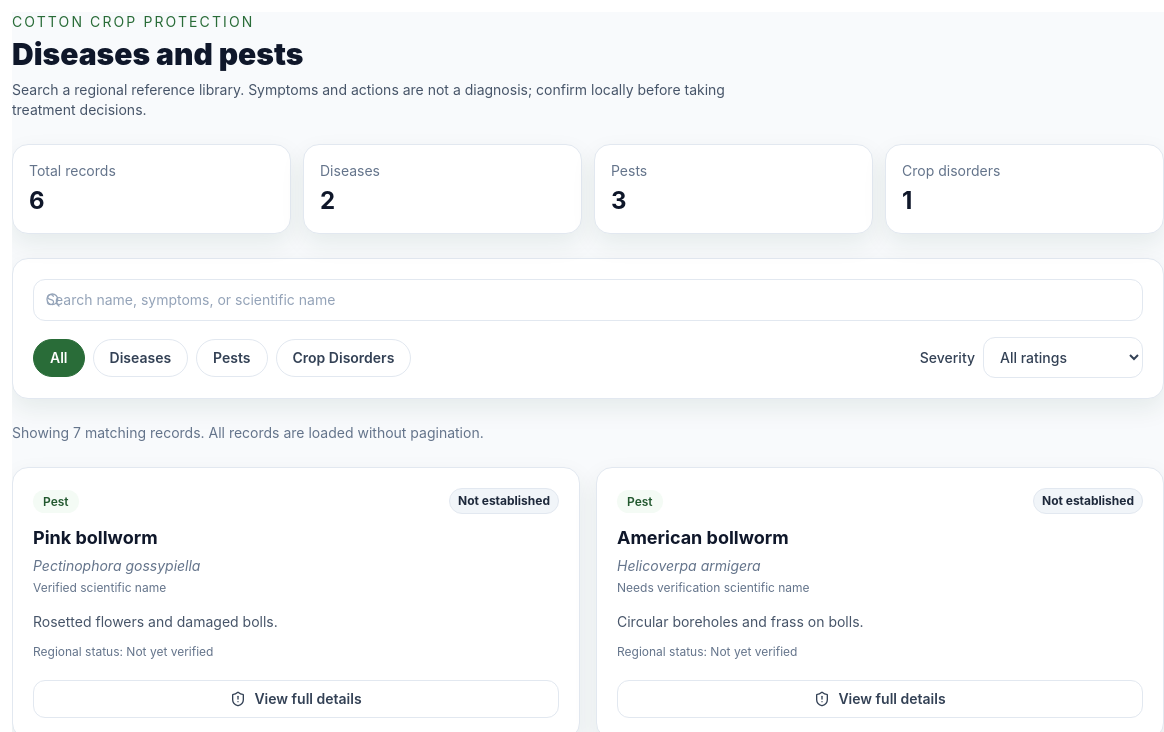
it: CottonIssueGuide › applies each severity label filter without crashing
Step 1. Select "Low" in the dropdown named "Filter by severity" → point(1063, 358), box [983, 337, 1143, 378]
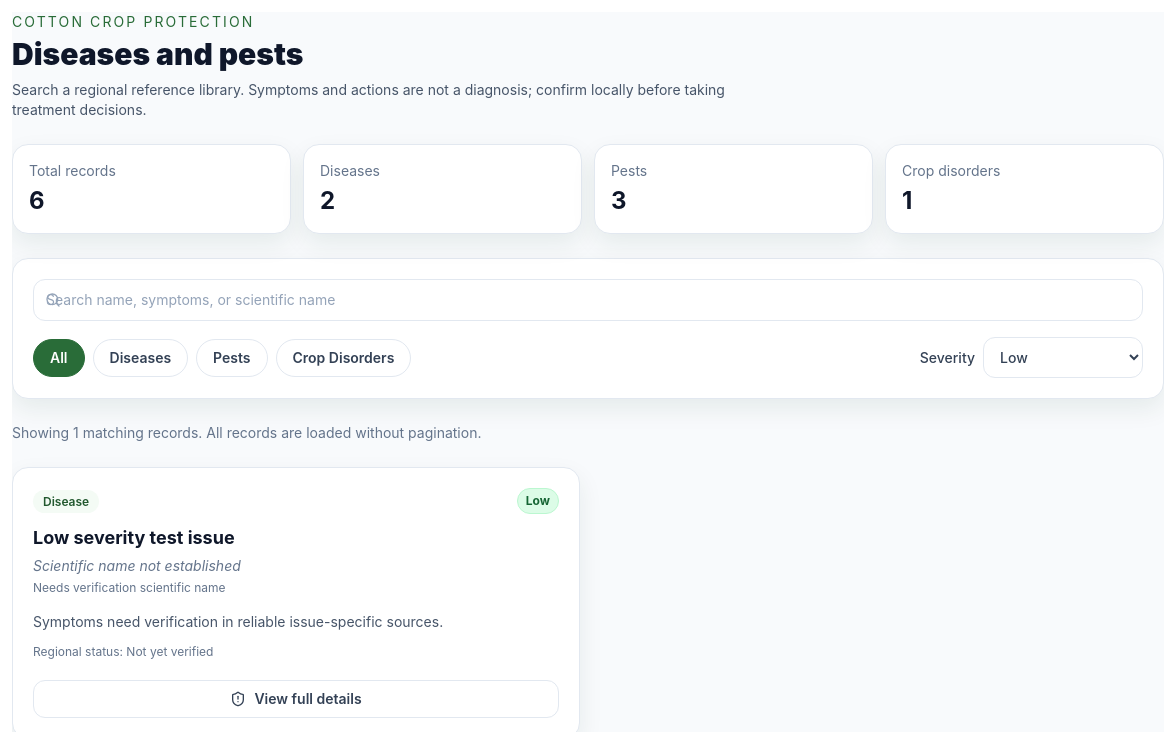
Expected: the heading "Low severity test issue" is shown, [33, 524, 241, 552]
Expected: the heading "Pink bollworm" is gone
Step 2. Select "Moderate" in the dropdown named "Filter by severity" → point(1063, 358), box [983, 337, 1143, 378]
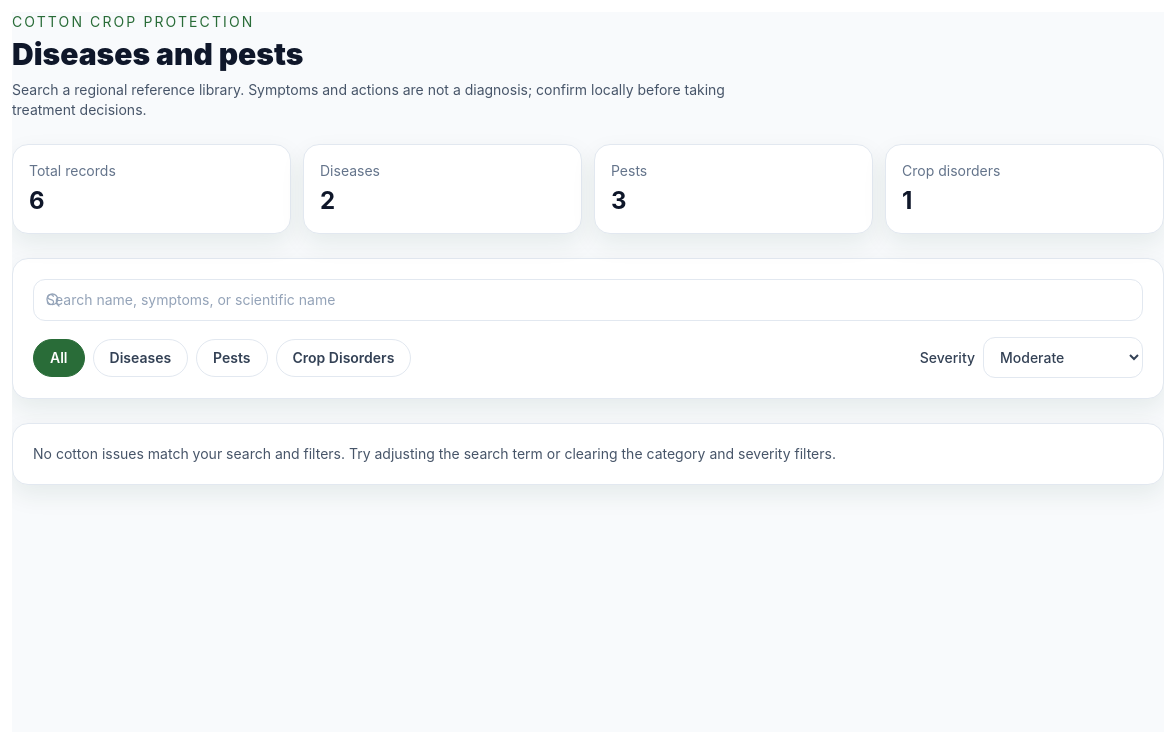
Expected: the heading "Low severity test issue" is gone
Step 3. Select "High" in the dropdown named "Filter by severity" → point(1063, 358), box [983, 337, 1143, 378]
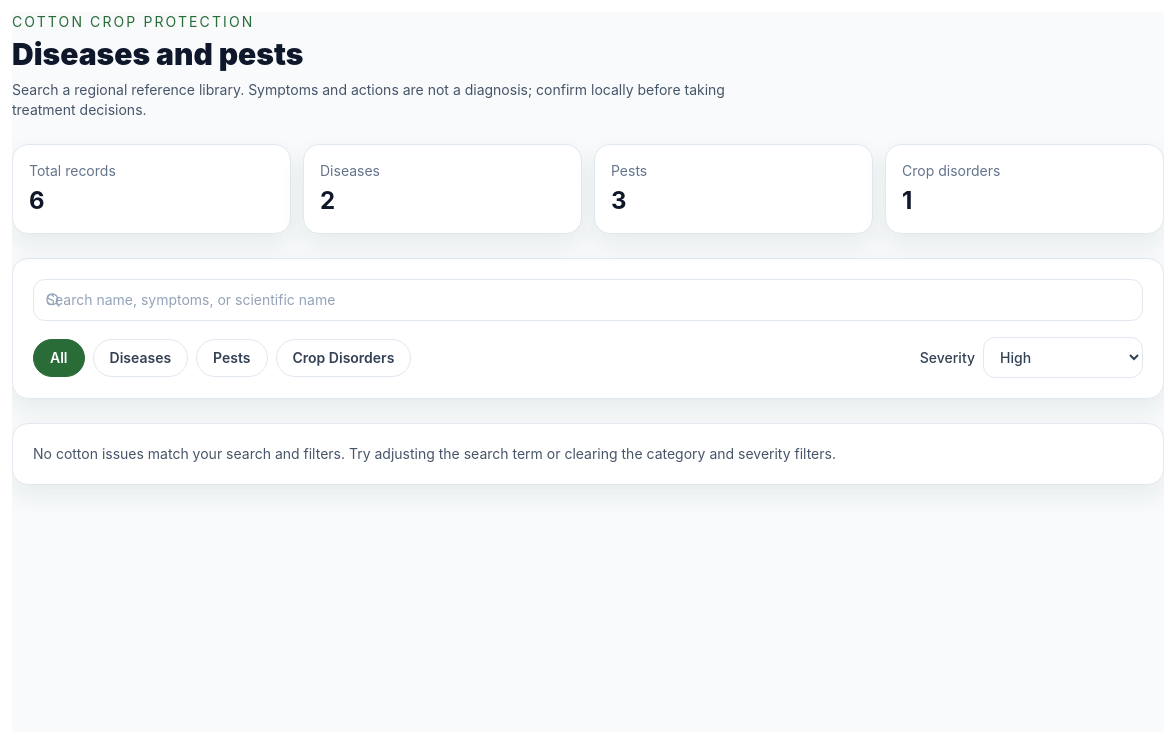
Expected: the heading "Low severity test issue" is not shown
Step 4. Select "Not established" in the dropdown named "Filter by severity" → point(1063, 358), box [983, 337, 1143, 378]
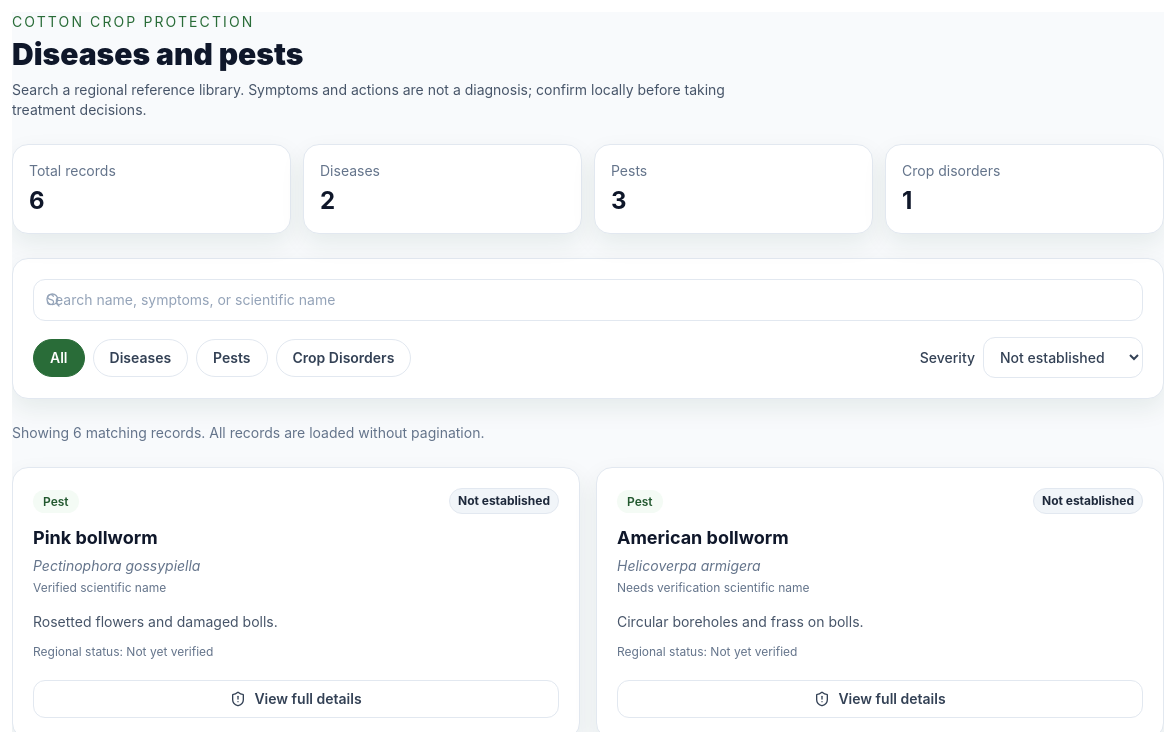
Expected: the heading "Low severity test issue" is not shown
Expected: the heading "Pink bollworm" is shown, [33, 527, 158, 548]
